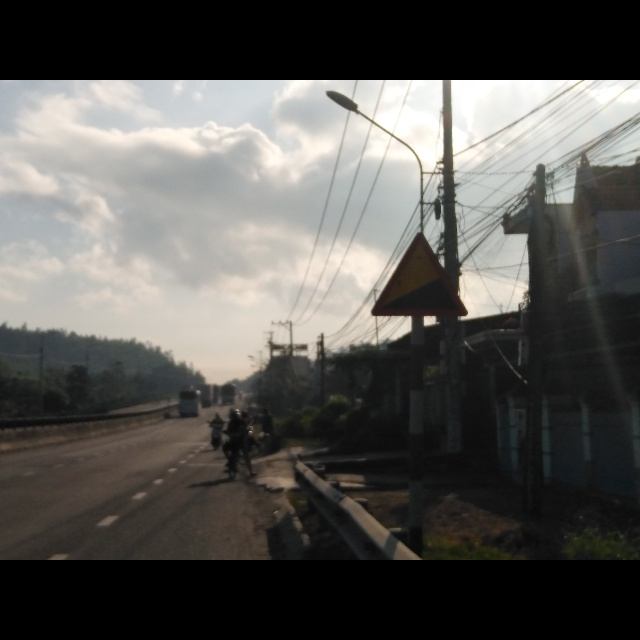Dốc lên nguy hiểm: (371, 231, 466, 318)
